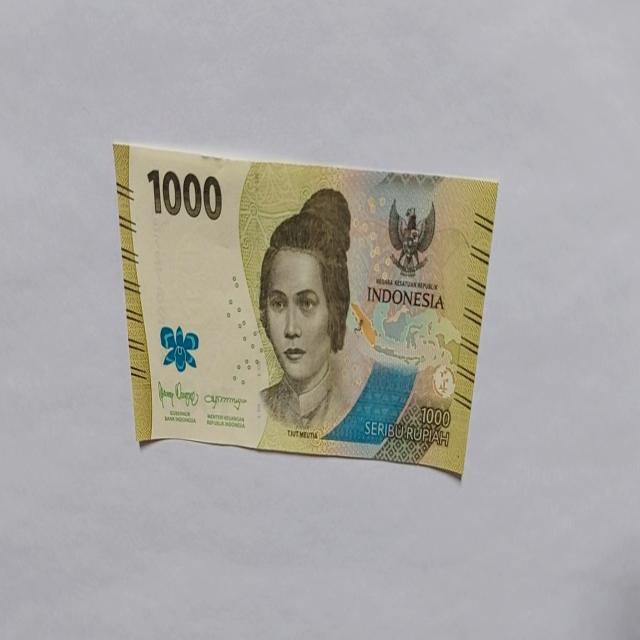seribu rupiah kertas: (112, 140, 498, 477)
